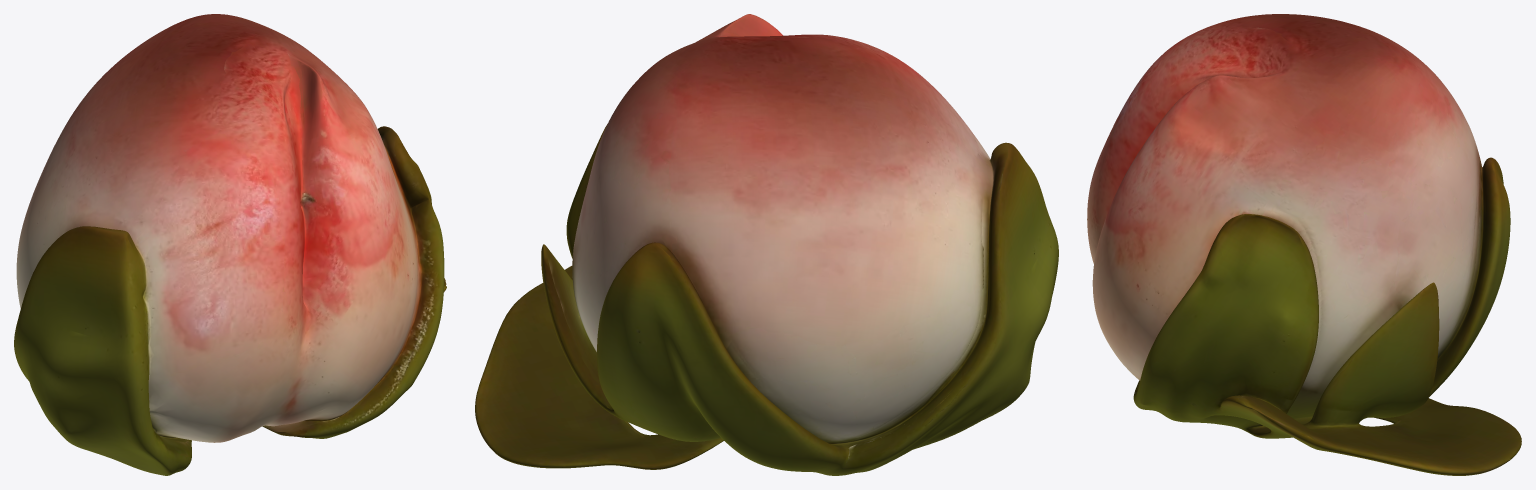
3 renders of one model, left to right at view 1: azimuth 30°, elevation 25°; view 2: azimuth 150°, elevation 25°; view 3: azimuth 270°, elevation 25°, orthographic. The views are drawn at different scales.
Visible parts, largest first — view 1: node_0; view 2: node_0; view 3: node_0.
Boxes of the visible parts, x1,y1,x2,y2 form: node_0: (14,14,446,475); node_0: (475,14,1058,475); node_0: (1087,14,1521,475).
Size of the model in its own units: 0.96 by 0.7558 by 0.8001.
Materials: 1 (1 with a texture image).
